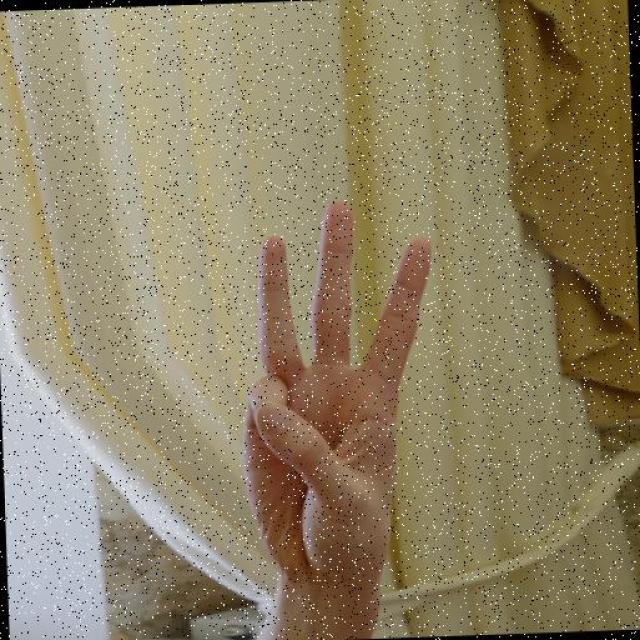W: (227, 194, 454, 597)
